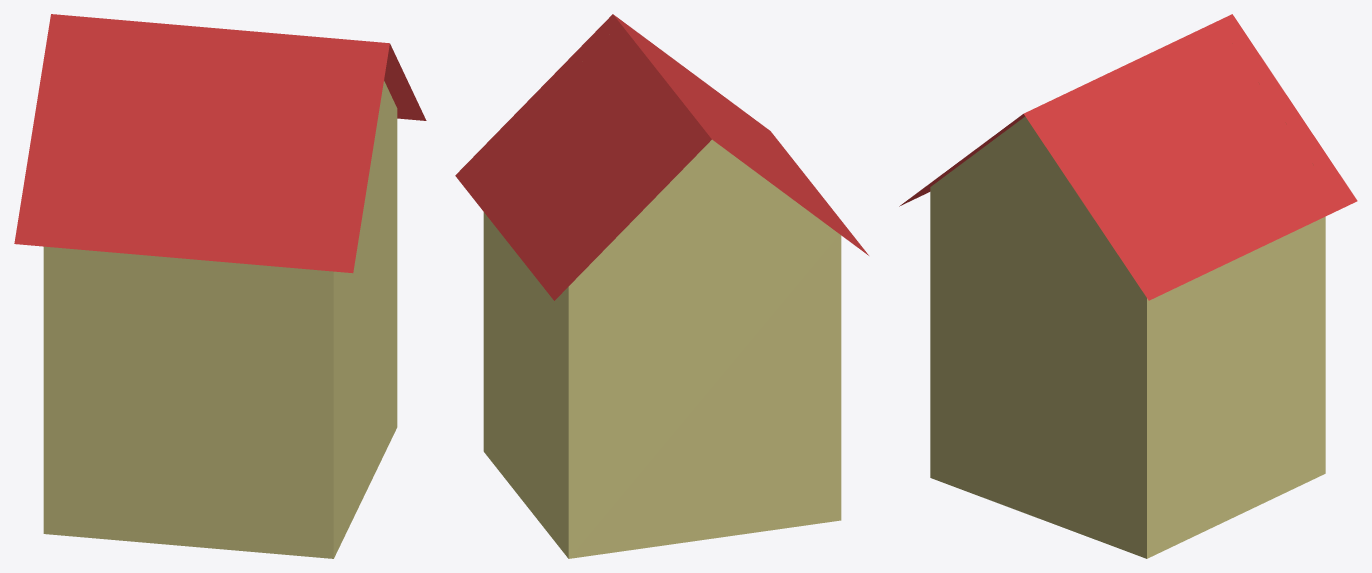
3 renders of one model, left to right at view 1: azimuth 30°, elevation 25°; view 2: azimuth 150°, elevation 25°; view 3: azimuth 270°, elevation 25°, orthographic. The views are drawn at different scales.
Parts seen in each view (by area): view 1: group_5, group_3, group_4; view 2: group_5, group_3, group_4; view 3: group_5, group_3, group_4.
Part boxes in pixels (x1=…): group_5: x1=43, y1=81, x2=397, y2=558; group_3: x1=14, y1=14, x2=424, y2=273; group_4: x1=344, y1=44, x2=426, y2=272; group_5: x1=483, y1=139, x2=841, y2=558; group_3: x1=455, y1=14, x2=868, y2=269; group_4: x1=455, y1=14, x2=711, y2=300; group_5: x1=930, y1=116, x2=1325, y2=558; group_3: x1=1024, y1=21, x2=1325, y2=300; group_4: x1=899, y1=14, x2=1357, y2=300.
Bounding box in the file's own units: 15.13 × 15.19 × 15.02.
